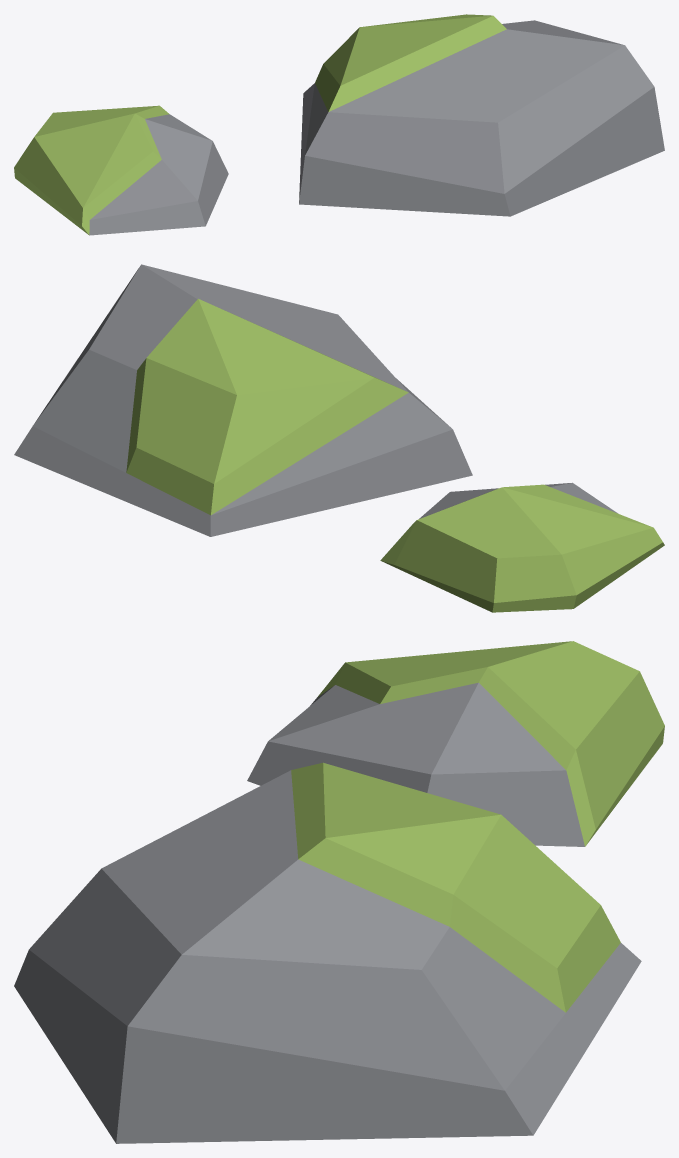
The model's file is stone_with_moss_5.obj.
3 renders of one model, top to bottom at view 1: azimuth 30°, elevation 25°; view 2: azimuth 150°, elevation 25°; view 3: azimuth 270°, elevation 25°, orthographic. The views are drawn at different scales.
Visible parts, largest first — view 1: stone_with_moss_5_Cube.038; view 2: stone_with_moss_5_Cube.038; view 3: stone_with_moss_5_Cube.038.
Boxes of the visible parts, <box> form: stone_with_moss_5_Cube.038: <box>14,14,664,235</box>; stone_with_moss_5_Cube.038: <box>14,264,664,612</box>; stone_with_moss_5_Cube.038: <box>14,641,664,1143</box>.
Size of the model in its own units: 1.37 by 0.2976 by 0.8382.
